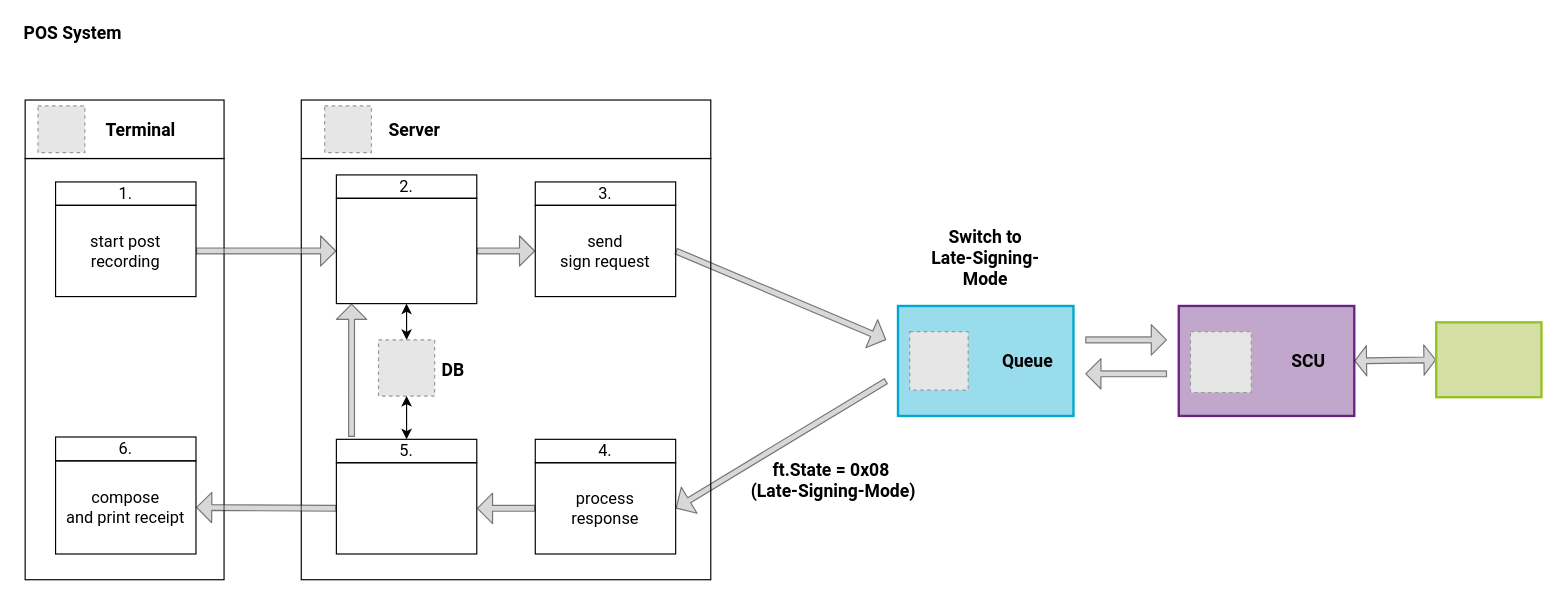
The diagram is 1562 pixels wide and 600 high, and some of its shapes have lost their labels. Grey dashed boxes stand in for pictures. The shapes that lost their labels are listed below. From the top down, each one's centre as x and y in pixels, then its label:
At [406,250]: "load next marked request and flag it ( 0x00000 00000010000)".
At [1488,359]: "TSE".
At [406,508]: "persist data".
